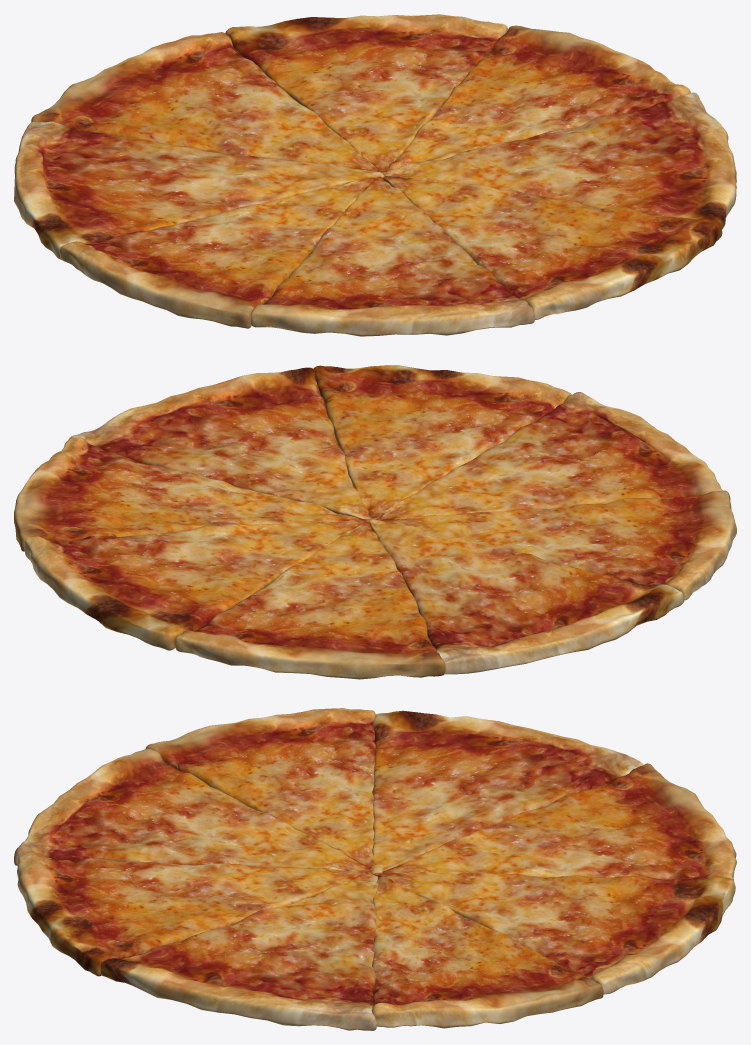
The model's file is cheese_pizza.gltf.
3 views of the same model, one above another, from view 1: azimuth 30°, elevation 25°; view 2: azimuth 150°, elevation 25°; view 3: azimuth 270°, elevation 25° (orthographic). The views are drawn at different scales.
Visible parts, largest first — view 1: slice7, slice5, slice3, slice8, slice1, slice4, slice6, slice2; view 2: slice5, slice4, slice3, slice1, slice8, slice7, slice6, slice2; view 3: slice1, slice5, slice3, slice7, slice4, slice8, slice2, slice6.
Boxes of the visible parts, left/top/right/bottom form: slice7: left=251, top=177, right=534, bottom=336; slice5: left=14, top=121, right=383, bottom=259; slice3: left=225, top=14, right=508, bottom=177; slice8: left=382, top=176, right=722, bottom=319; slice1: left=384, top=92, right=736, bottom=229; slice4: left=31, top=32, right=379, bottom=171; slice6: left=59, top=177, right=375, bottom=328; slice2: left=387, top=25, right=690, bottom=171; slice5: left=368, top=519, right=684, bottom=674; slice4: left=175, top=521, right=445, bottom=679; slice3: left=24, top=519, right=369, bottom=650; slice1: left=69, top=367, right=370, bottom=519; slice8: left=313, top=365, right=571, bottom=519; slice7: left=376, top=392, right=722, bottom=520; slice6: left=381, top=490, right=736, bottom=600; slice2: left=14, top=437, right=359, bottom=551; slice1: left=100, top=874, right=378, bottom=1030; slice5: left=371, top=710, right=643, bottom=873; slice3: left=373, top=871, right=735, bottom=994; slice7: left=14, top=748, right=372, bottom=872; slice4: left=380, top=763, right=736, bottom=880; slice8: left=17, top=852, right=371, bottom=976; slice2: left=371, top=877, right=603, bottom=1028; slice6: left=145, top=708, right=375, bottom=869.
Size of the model in its own units: 6.85 by 0.2422 by 6.81.
Materials: 1 (1 with a texture image).
